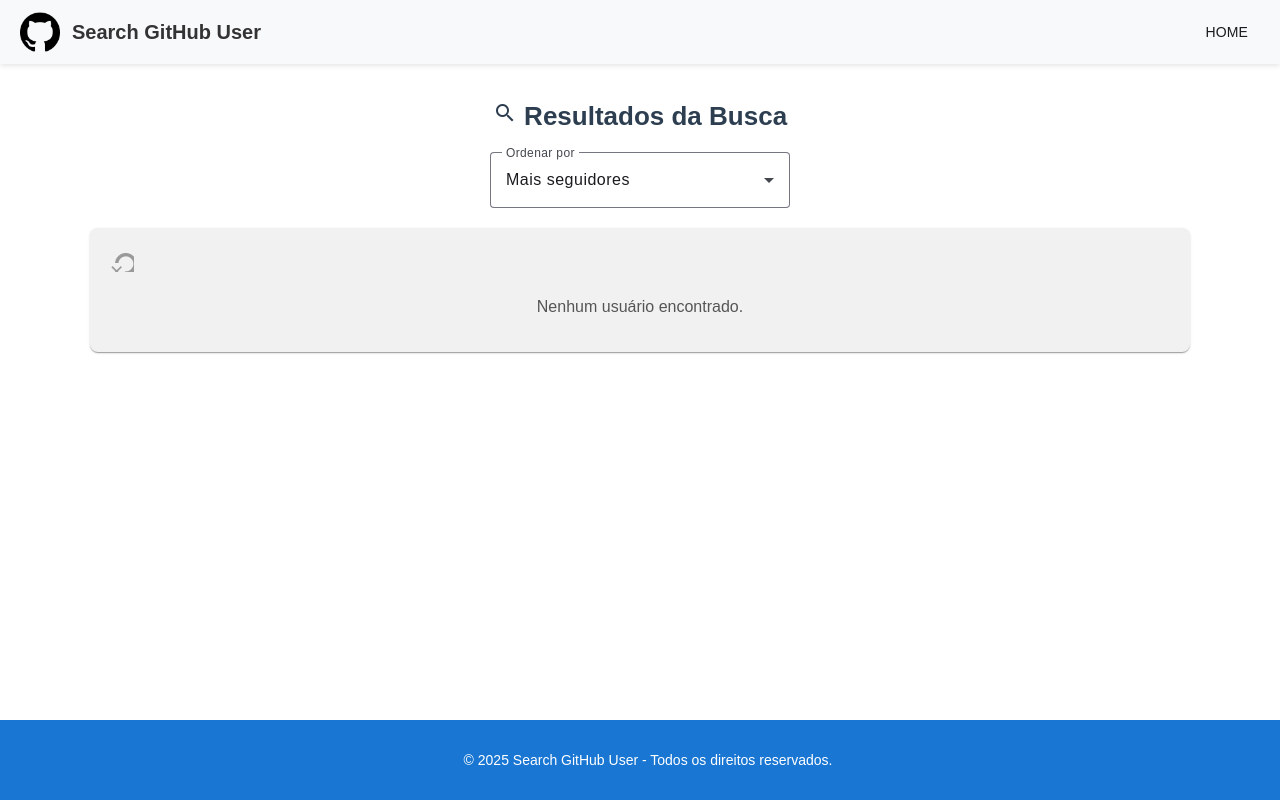
Test: Sort Selector Component › Deve exibir todas as opções de ordenação
Click the dropdown with test id "sort-select": x=568, y=180 [506,168,774,192]
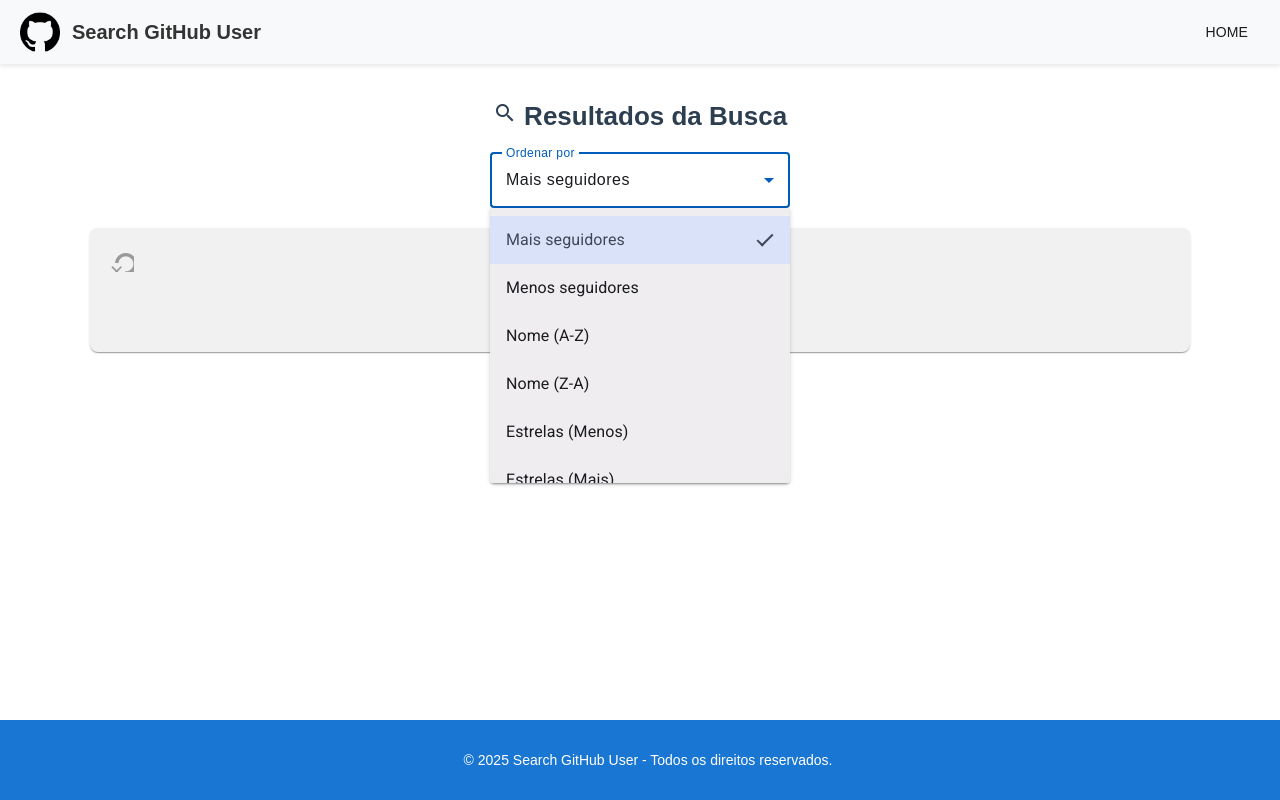
Result: the option with test id "sort-followers-desc" is shown at [490,216,790,264]
Result: the option with test id "sort-followers-asc" is shown at [506,278,639,297]
Result: the option with test id "sort-name-asc" is shown at [506,326,590,345]
